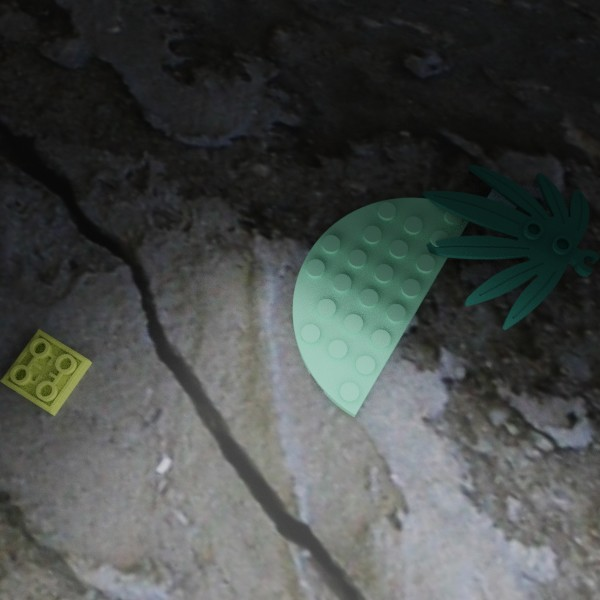lego: (292, 197, 473, 417), (420, 164, 600, 329), (0, 328, 92, 415), (481, 181, 523, 222)
